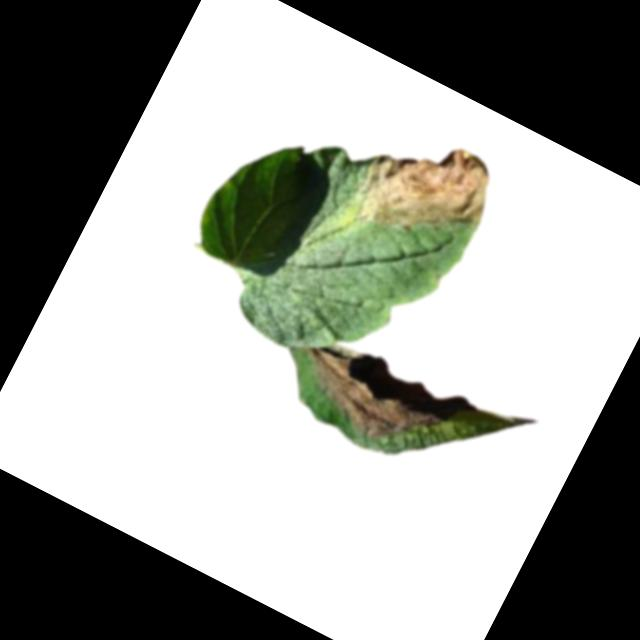Late_blight: (340, 110, 507, 270), (291, 343, 448, 464)
